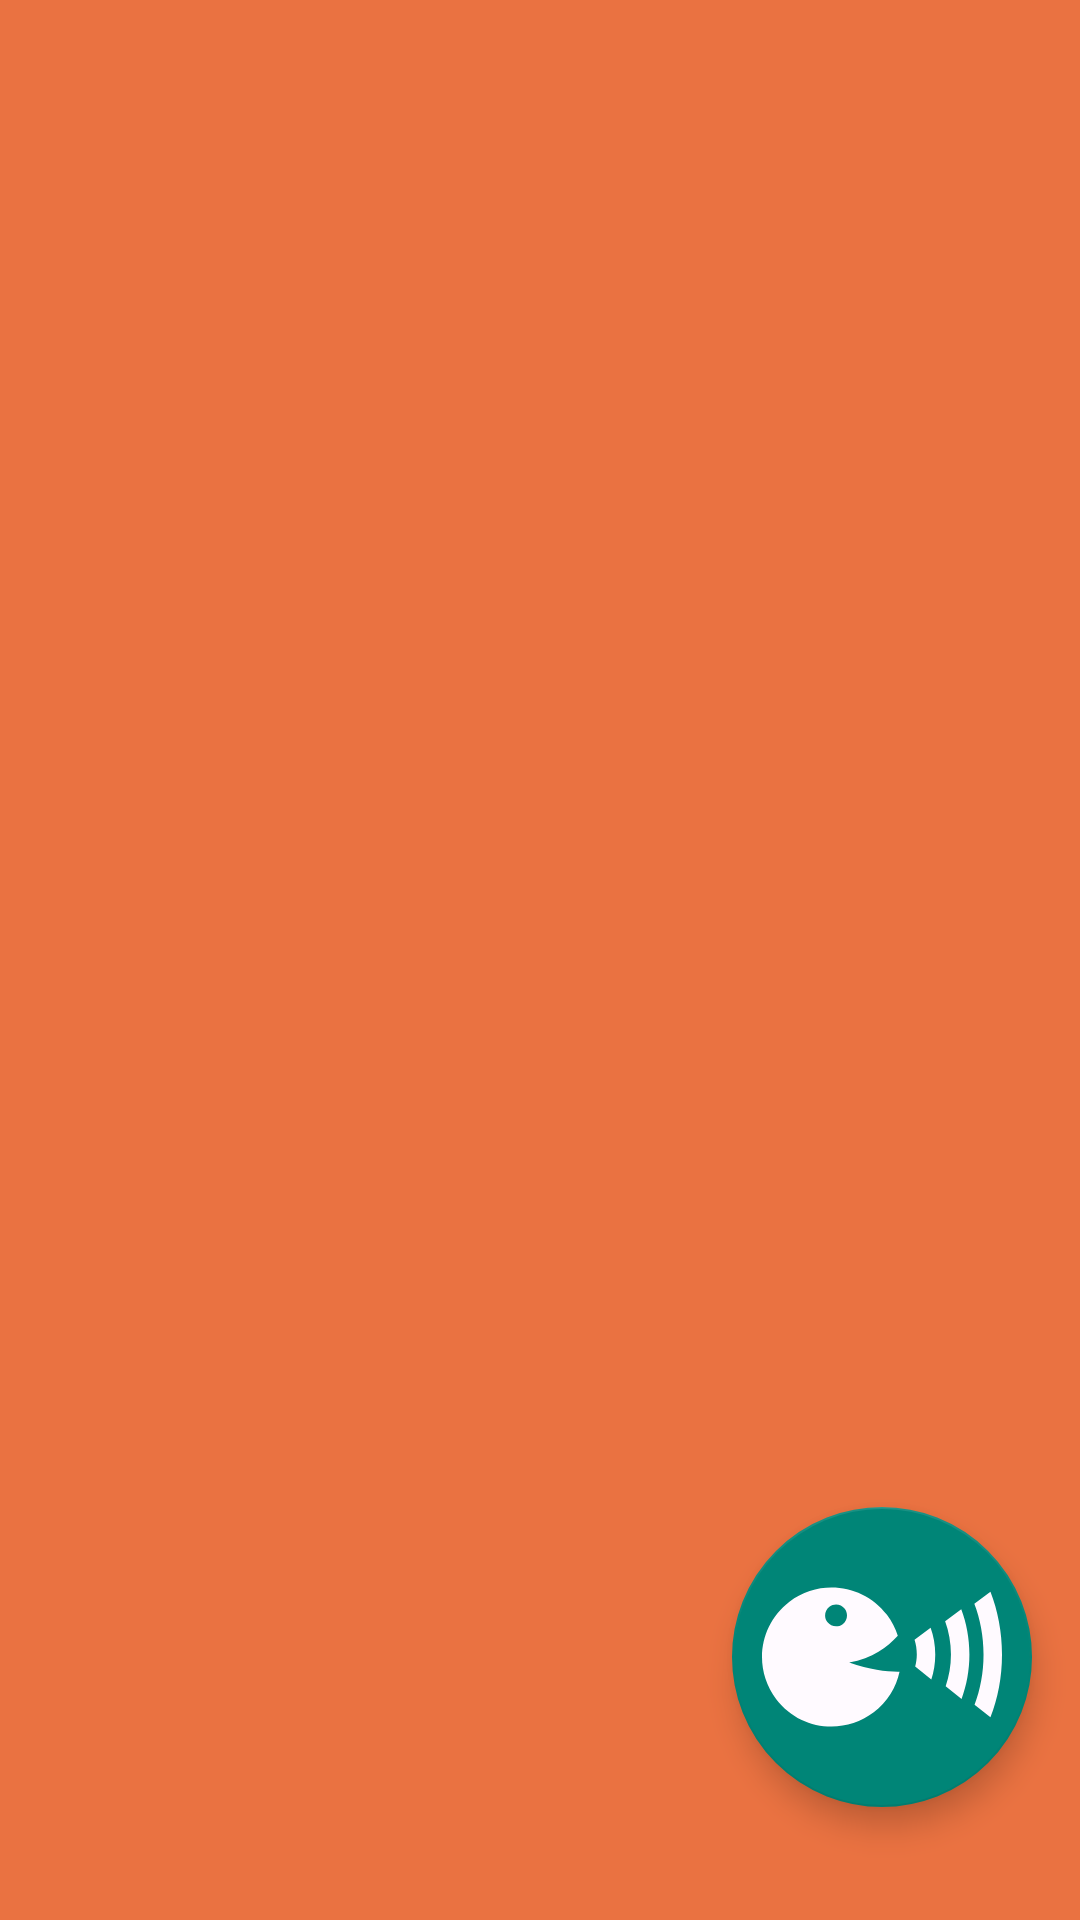

Screen size 1080×1920. Icon name, then its box in pixels as [x1, y1, x2, y2]:
Activar comandos de voz: [732, 1507, 1032, 1807]
